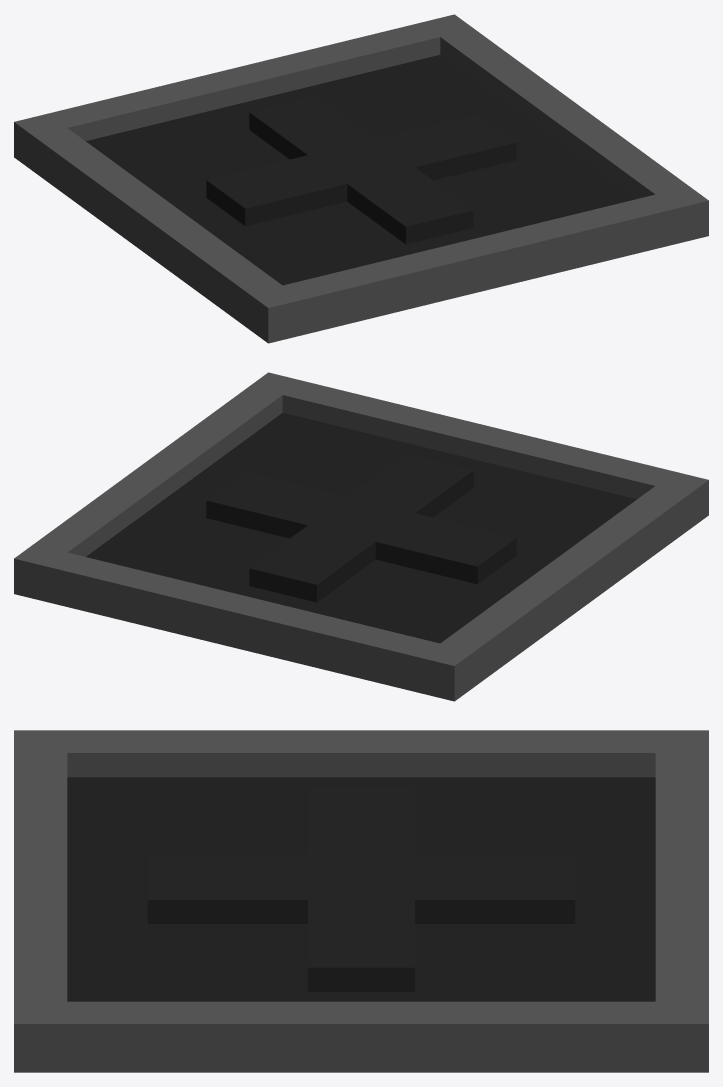
File: trap_CROSSHAIR_BLACK.glb
3 views of the same model, one above another, from view 1: azimuth 30°, elevation 25°; view 2: azimuth 150°, elevation 25°; view 3: azimuth 270°, elevation 25° (orthographic). The views are drawn at different scales.
Visible parts, largest first — view 1: item_TRAP_CROSSHAIR_BLACK; view 2: item_TRAP_CROSSHAIR_BLACK; view 3: item_TRAP_CROSSHAIR_BLACK.
Boxes of the visible parts, x1=… form: item_TRAP_CROSSHAIR_BLACK: x1=14, y1=14, x2=708, y2=343; item_TRAP_CROSSHAIR_BLACK: x1=14, y1=372, x2=708, y2=701; item_TRAP_CROSSHAIR_BLACK: x1=14, y1=730, x2=708, y2=1072.
Size of the model in its own units: 0.5909 by 0.0455 by 0.5909.
1 material, 1 textured.
